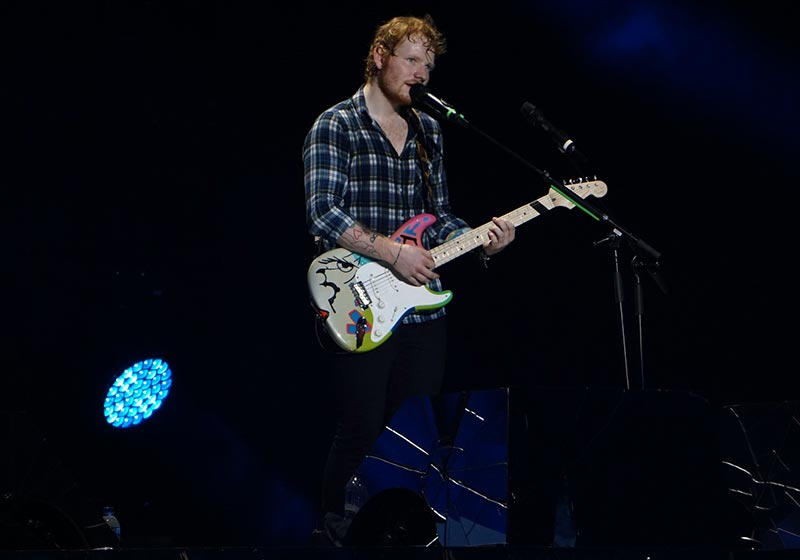acousticguitar: (306, 179, 608, 358)
